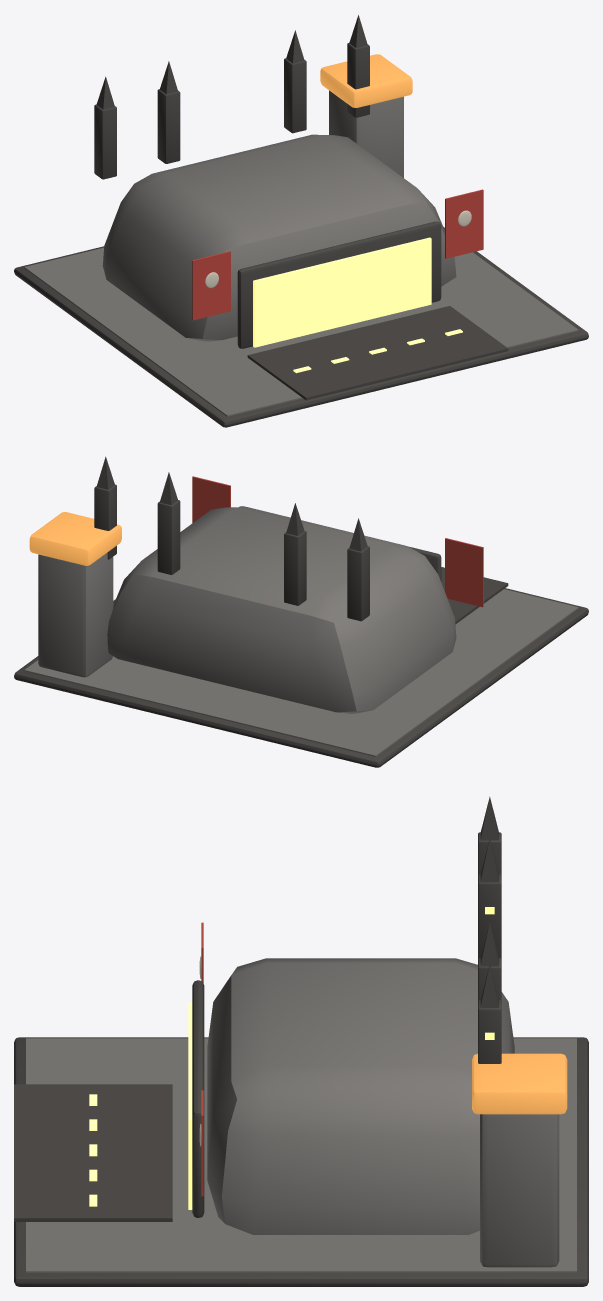
Rendered from starport_hum.glb.
3 views of the same model, one above another, from view 1: azimuth 30°, elevation 25°; view 2: azimuth 150°, elevation 25°; view 3: azimuth 270°, elevation 25° (orthographic). The views are drawn at different scales.
Visible parts, largest first — view 1: starport_hum; view 2: starport_hum; view 3: starport_hum.
Boxes of the visible parts, left/top/right/bottom form: starport_hum: left=14, top=15, right=588, bottom=427; starport_hum: left=14, top=456, right=588, bottom=767; starport_hum: left=14, top=796, right=588, bottom=1286.
Bounding box in the file's own units: 2.9 × 1.6 × 2.9.
